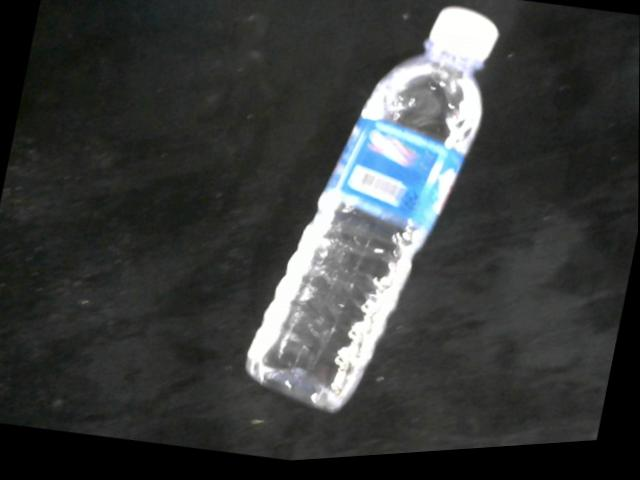bottle: (243, 11, 501, 420)
